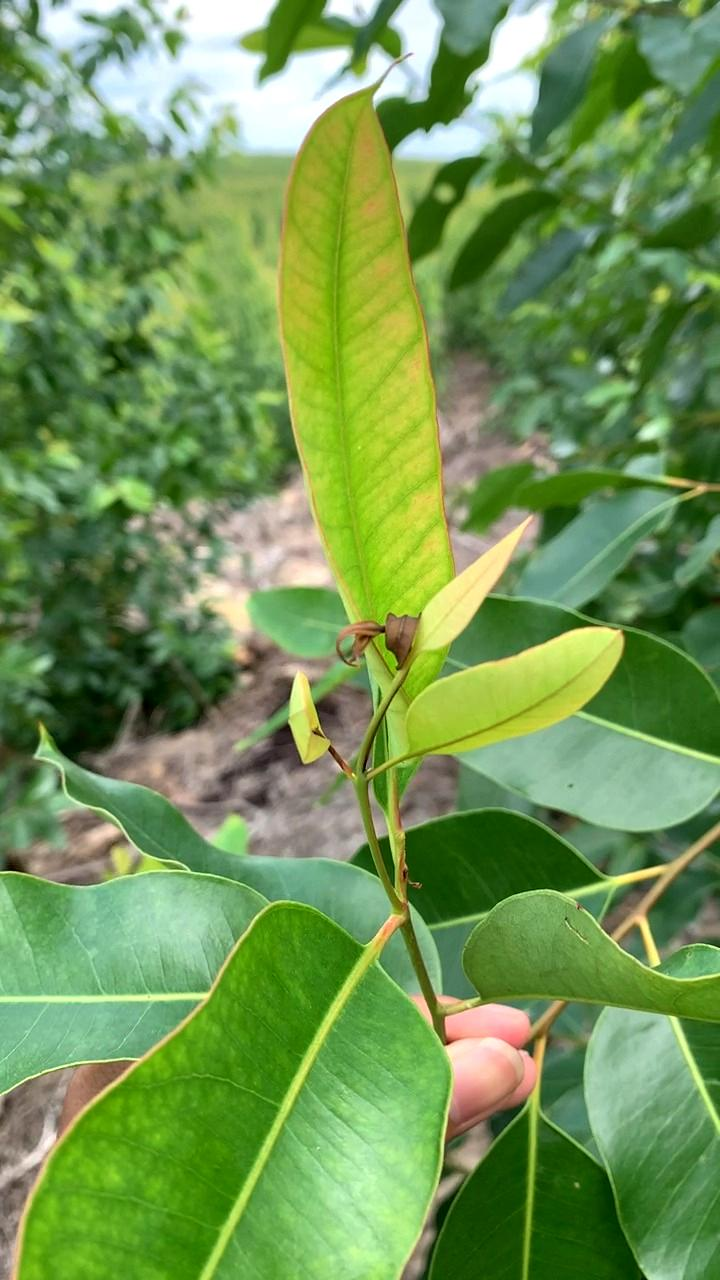Helopeltis-Withered Sprout: (329, 606, 426, 676)
